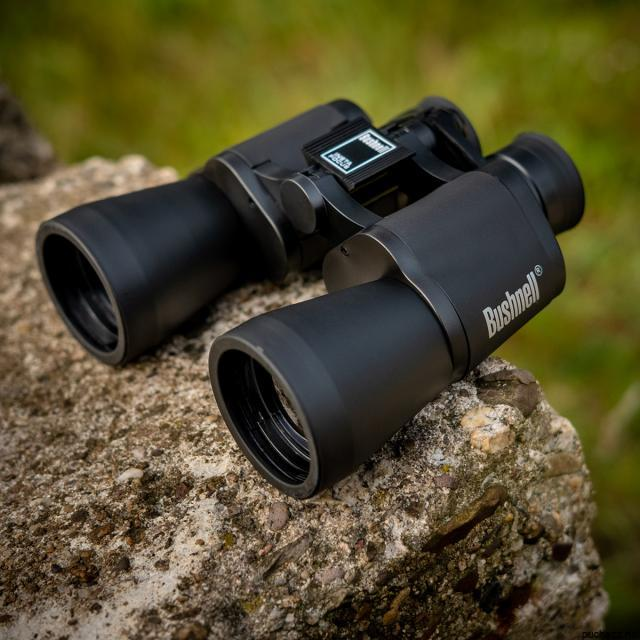Binocular: (32, 79, 598, 499)
